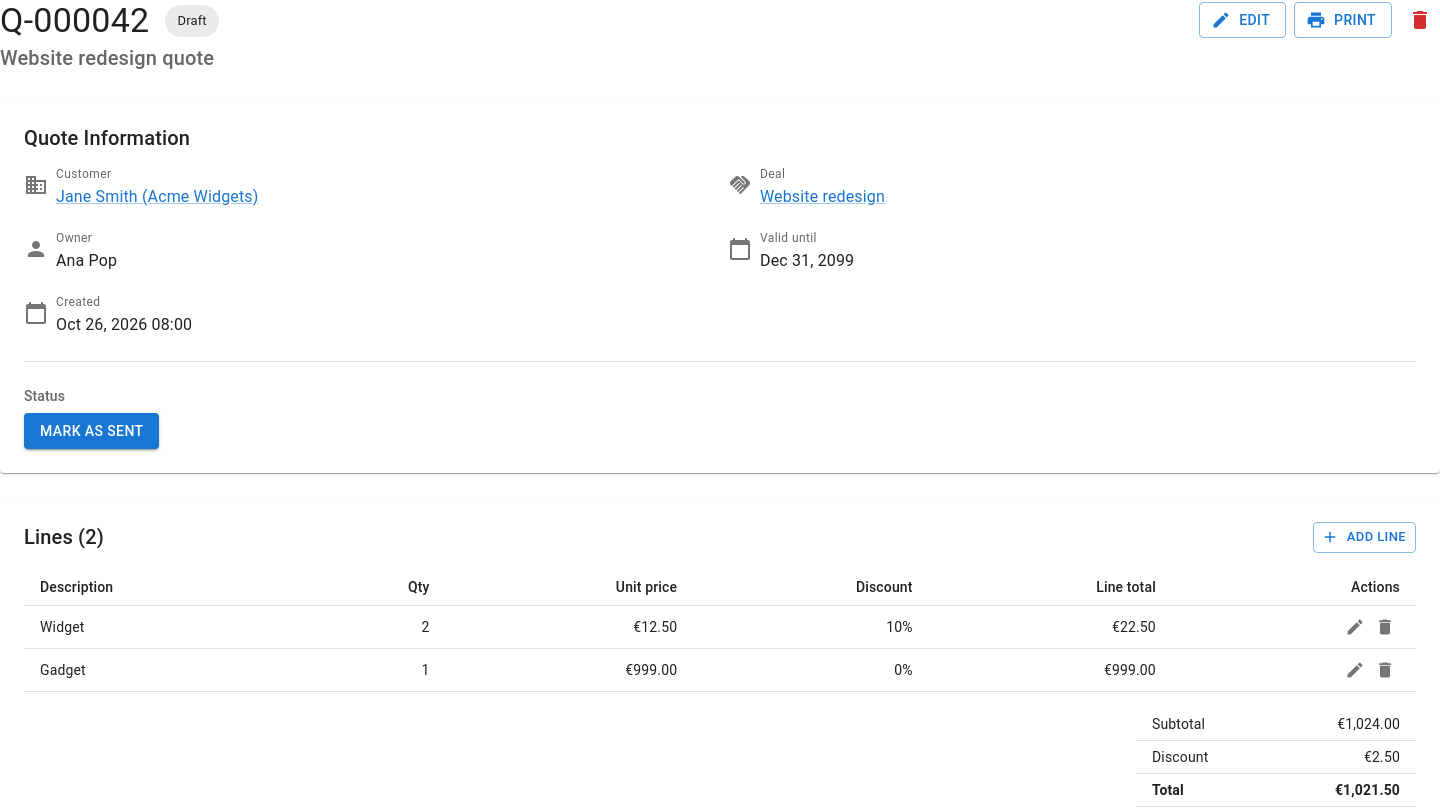
Test: QuoteDetail › edits a line with the discount sent in basis points and removes one after confirming
Expected: the heading "Q-000042" is shown, [0,0,150,42]
Click the button named "Edit line 1": (1355, 627) [1340,612,1370,642]
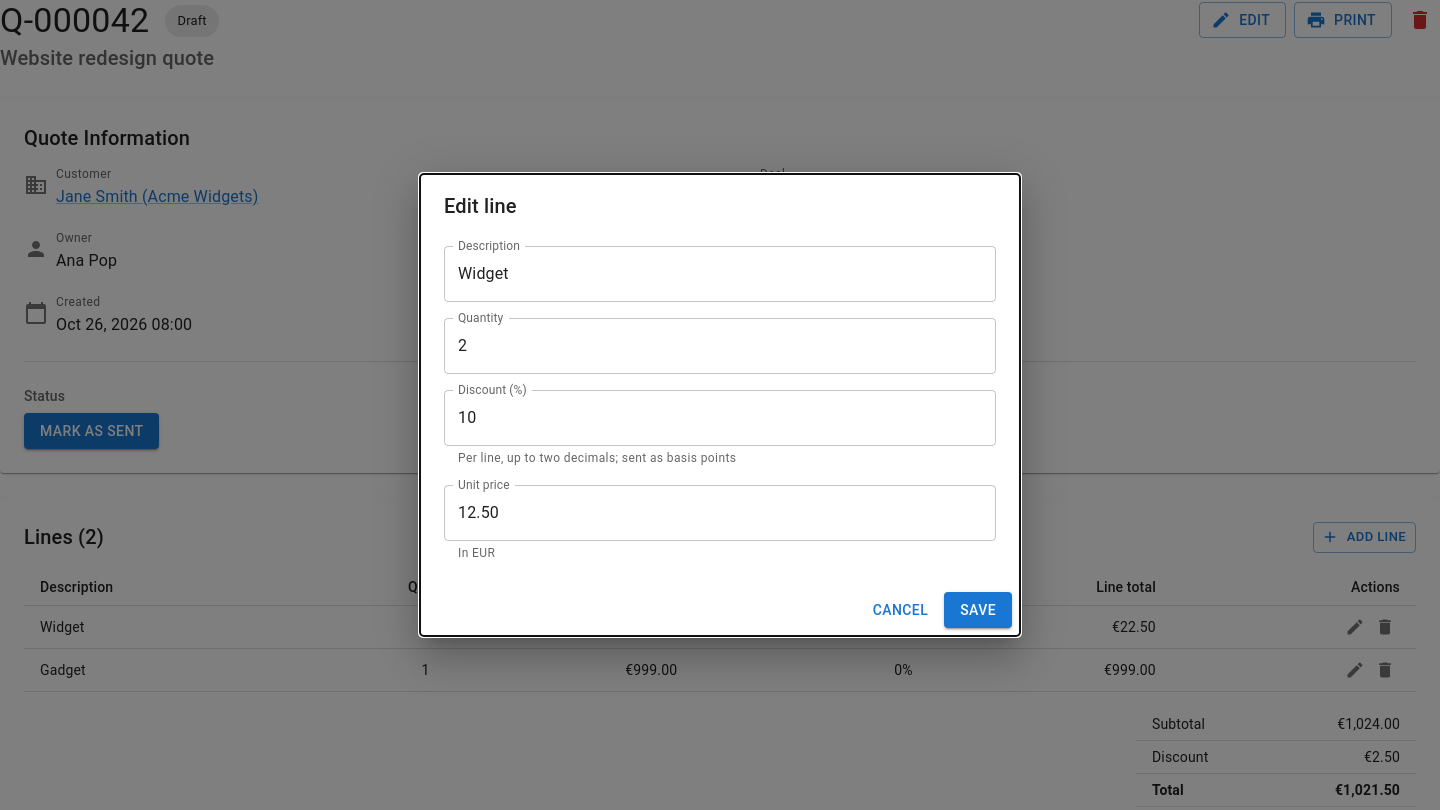
Expected: the field labelled "Description" holds "Widget", [444,246,996,302]
Expected: the field labelled "Discount (%)" holds "10", [444,390,996,446]
Expected: the field labelled "Unit price" holds "12.50", [444,485,996,541]
Replace the text in the number field labelled "Quantity" with "3": (720, 346) [444,318,996,374]
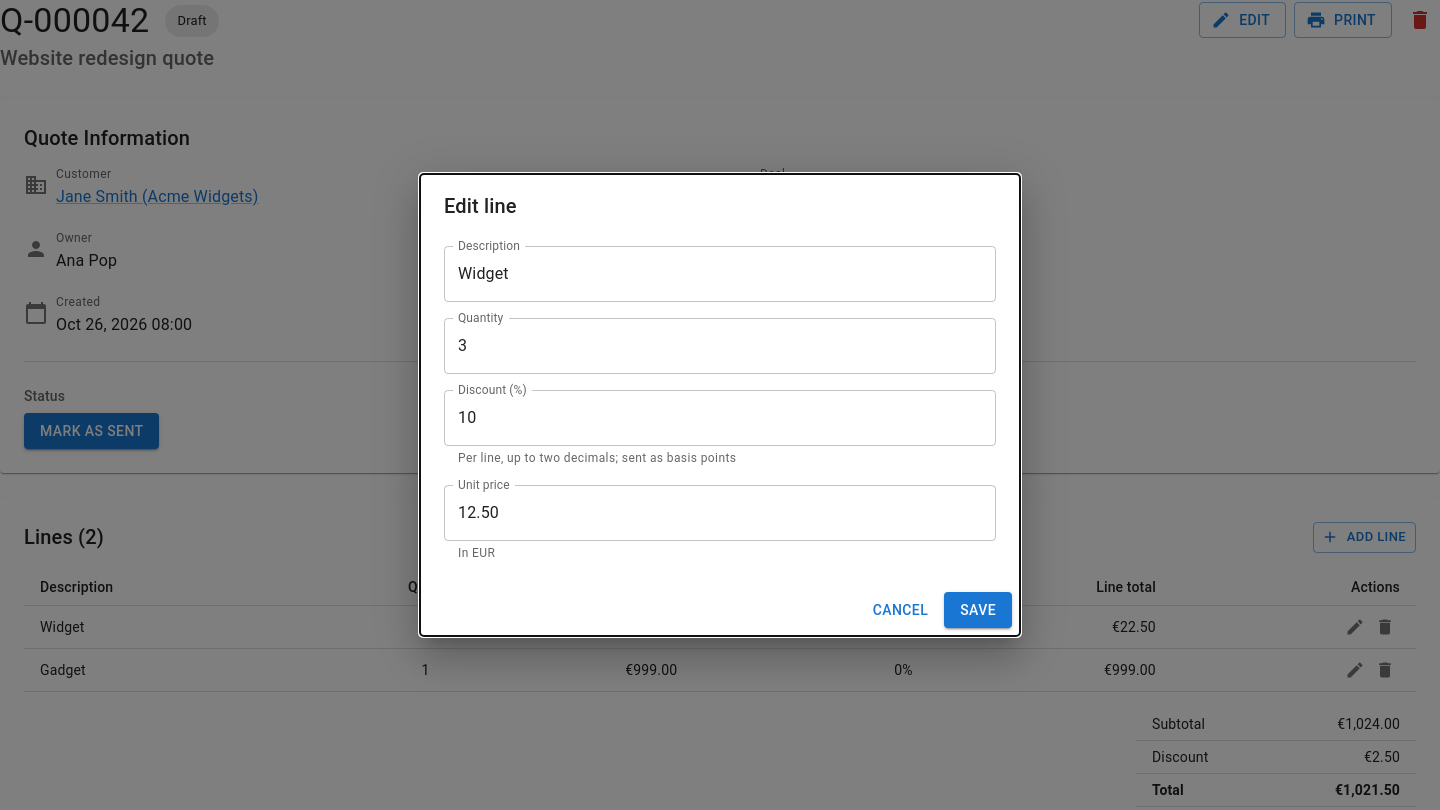
Click the button "Save": (978, 610) [944,592,1012,628]
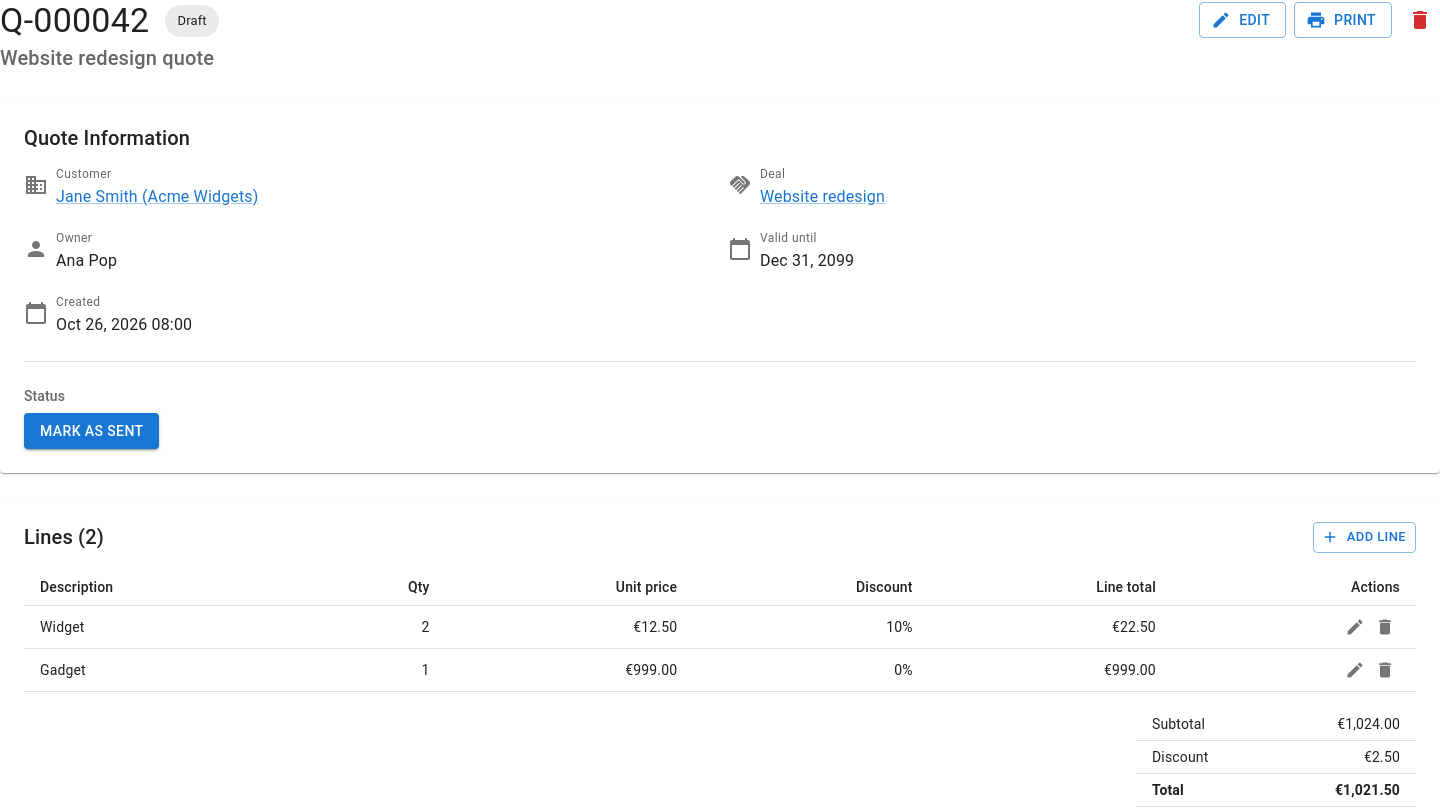
Expected: the dialog is gone
Click the button named "Delete line 1": (1385, 627) [1370,612,1400,642]
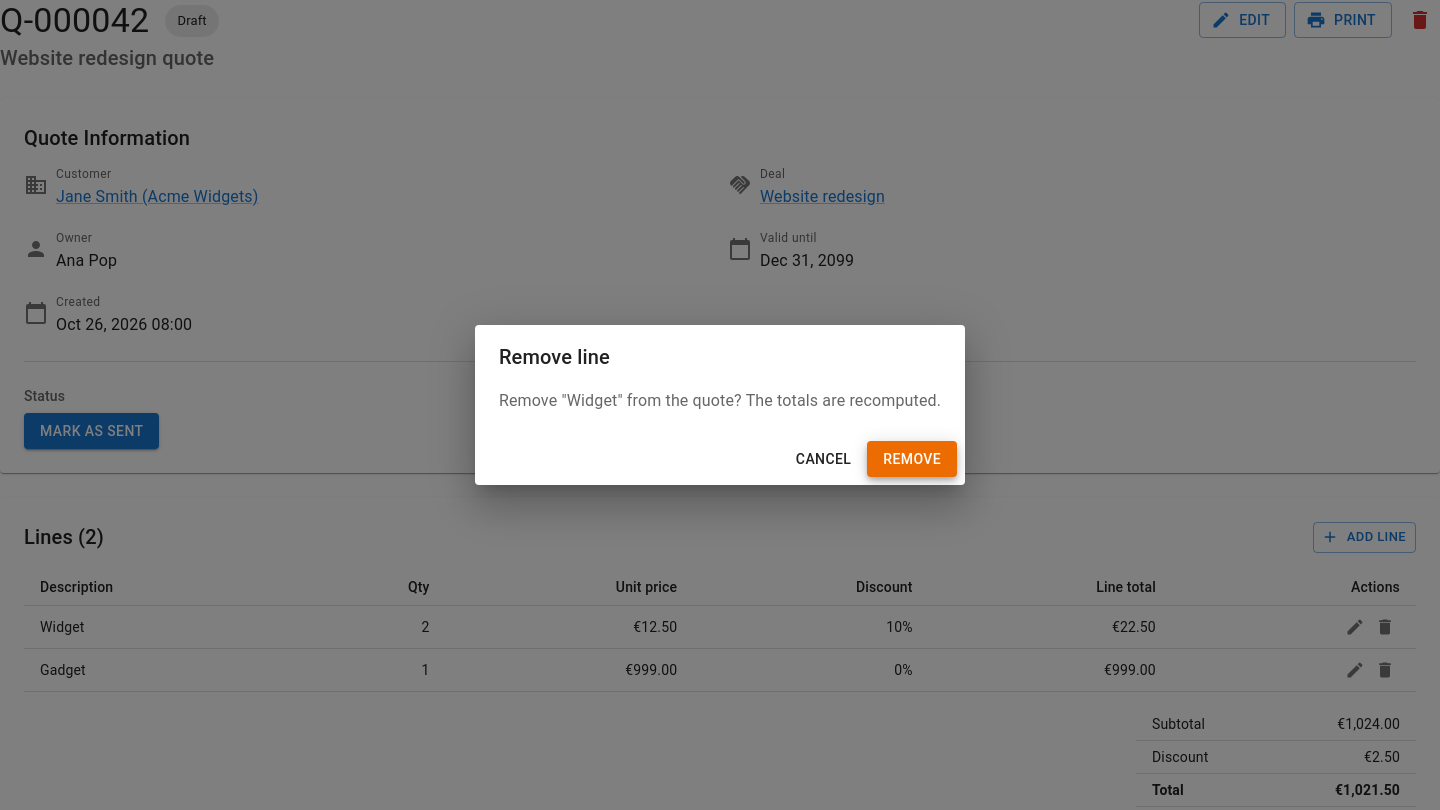
Click the button "Remove": (912, 459) [867,441,957,477]
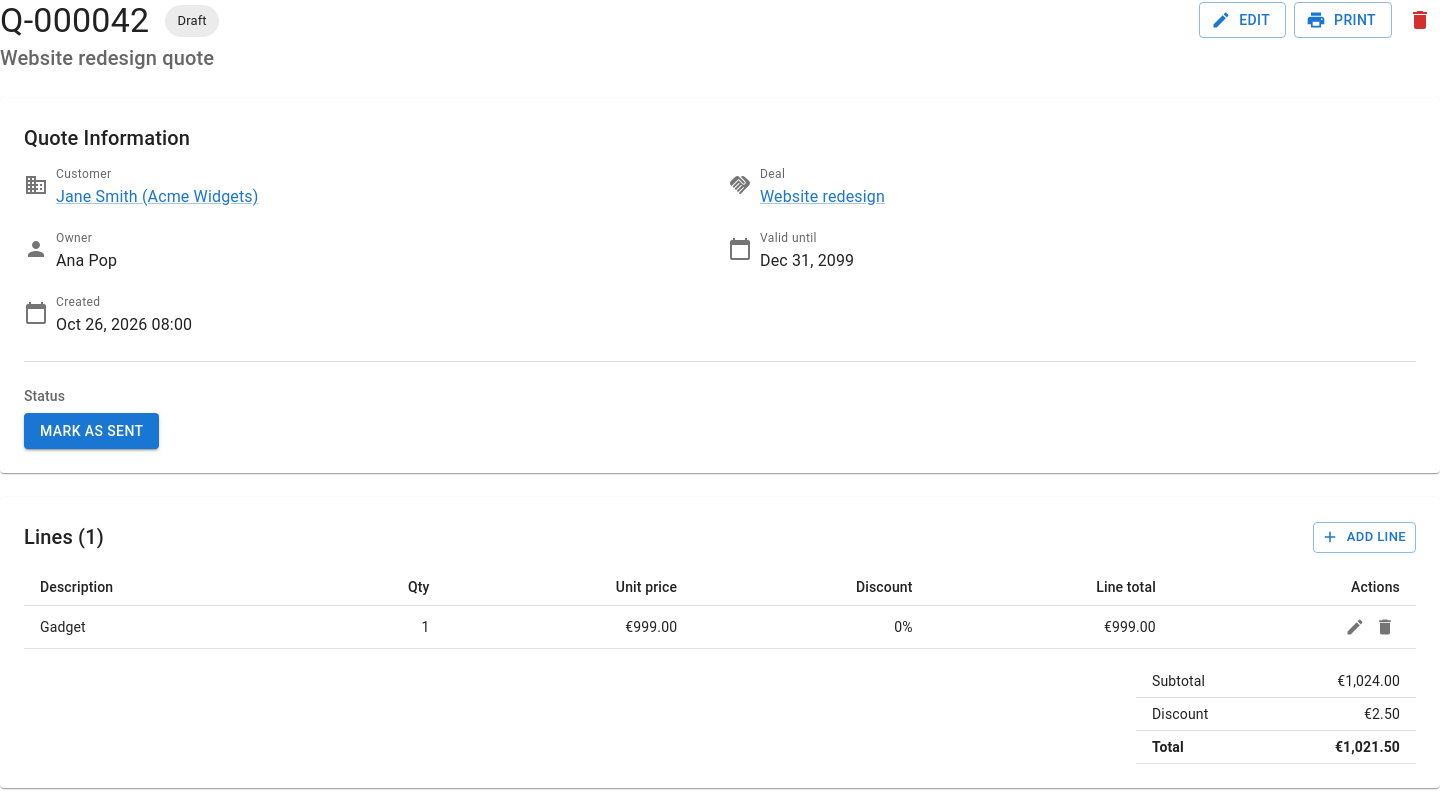
Expected: the number of rows with test id "quote-line-row" is 1, [24,606,1416,649]
